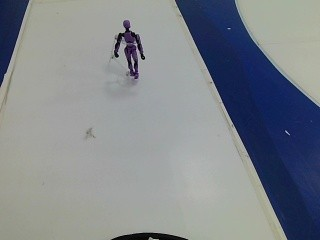pedestrian: (103, 12, 155, 90)
